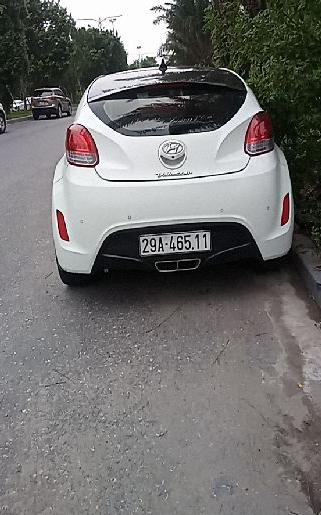Plate-iWeP: (139, 230, 211, 257)
